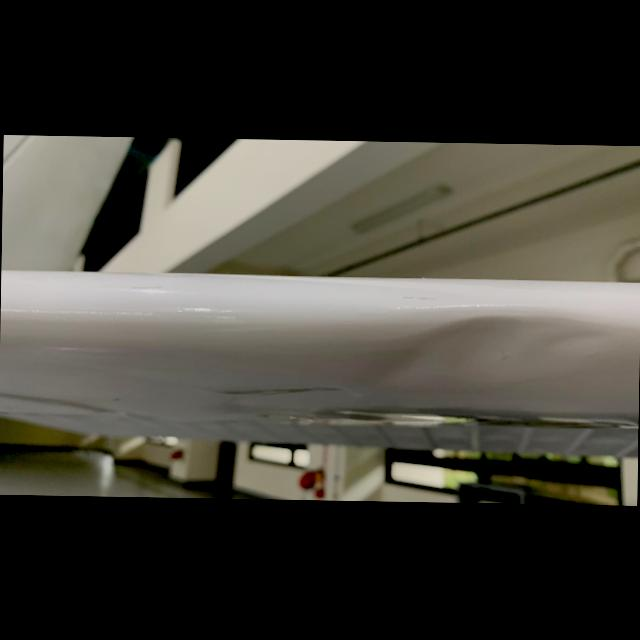dent: (375, 306, 638, 394)
